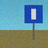sign: (25, 5, 43, 39)
